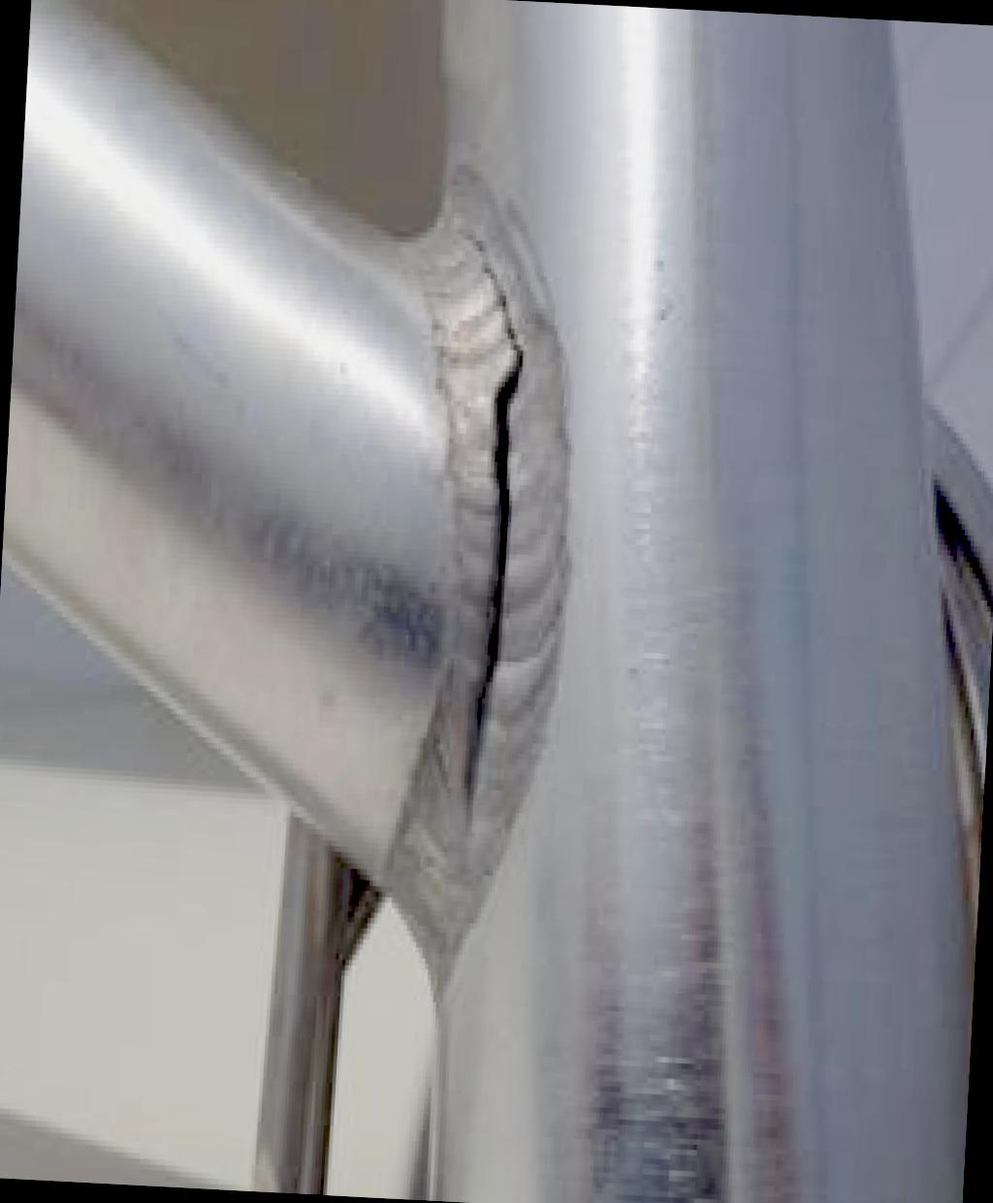crack: (415, 190, 587, 852)
